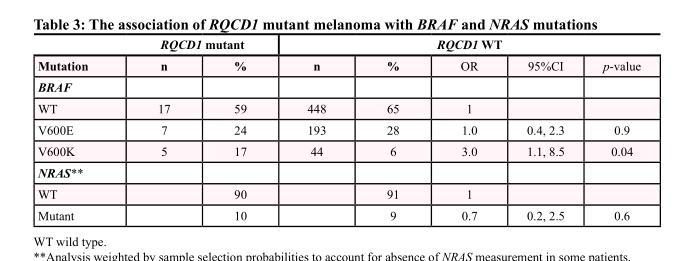table: (36, 36, 640, 221)
table column: (36, 36, 122, 221), (501, 36, 583, 221), (122, 36, 201, 221), (276, 36, 355, 221), (201, 36, 276, 221), (355, 36, 429, 221), (429, 36, 501, 221), (583, 36, 640, 221)
table column header: (36, 36, 640, 75)
table projected row header: (36, 75, 640, 97), (36, 161, 640, 182)
table row: (36, 75, 640, 97), (36, 118, 640, 140), (36, 182, 640, 204), (36, 54, 640, 75), (36, 97, 640, 118), (36, 140, 640, 161), (36, 161, 640, 182), (36, 36, 640, 54), (36, 204, 640, 221)
table spanning cell: (276, 36, 640, 54), (36, 36, 122, 75), (122, 36, 276, 54)
